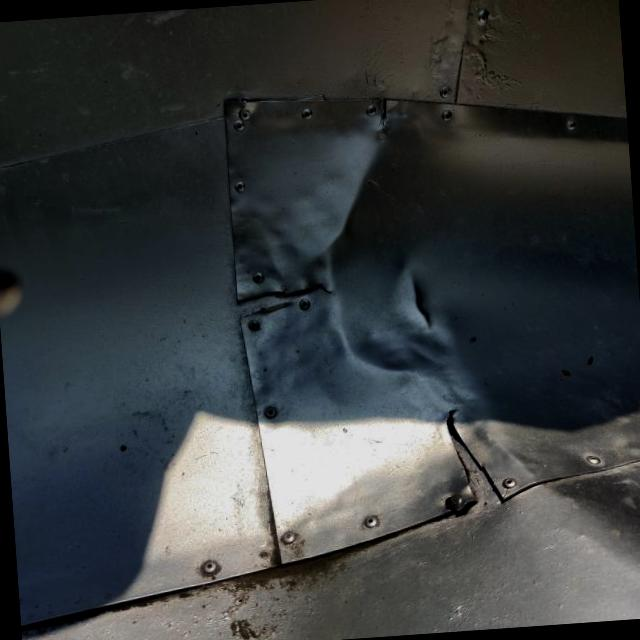dent: (274, 94, 516, 429)
